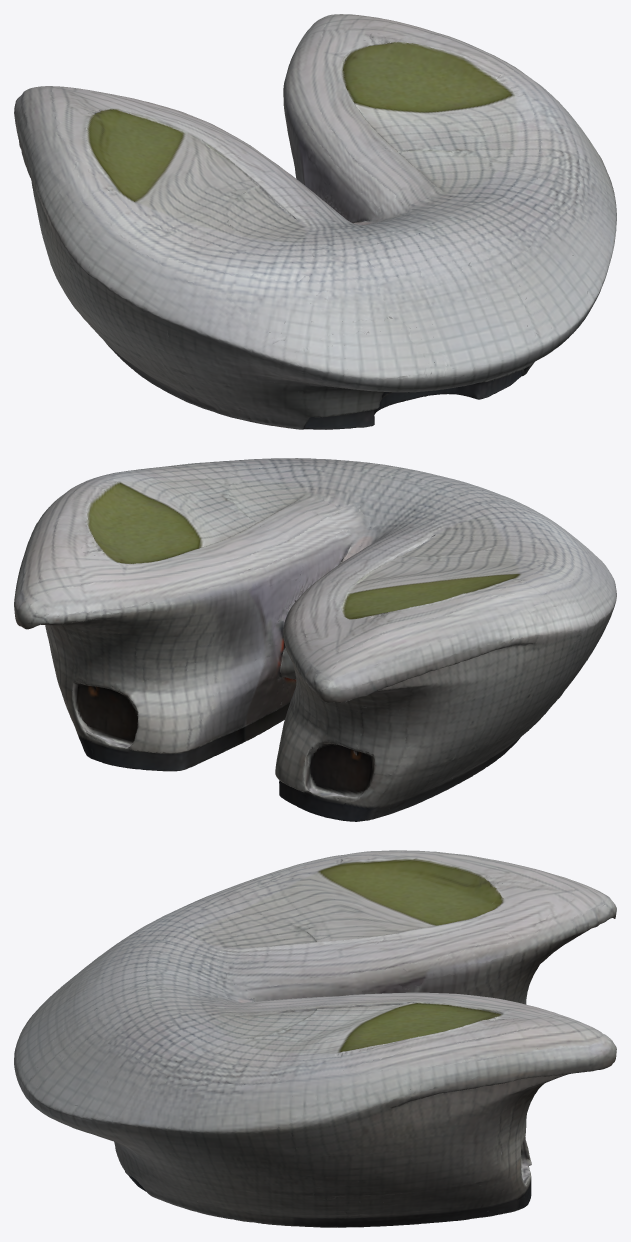
Rendered from DDP_본관.glb.
3 renders of one model, top to bottom at view 1: azimuth 30°, elevation 25°; view 2: azimuth 150°, elevation 25°; view 3: azimuth 270°, elevation 25°, orthographic. The views are drawn at different scales.
Parts seen in each view (by area): view 1: texture_mapping; view 2: texture_mapping; view 3: texture_mapping.
Part boxes in pixels (<box>): texture_mapping: <box>14,14,616,429</box>; texture_mapping: <box>14,458,616,821</box>; texture_mapping: <box>14,850,616,1227</box>.
Bounding box in the file's own units: 0.9498 × 0.3598 × 0.9977.
Materials: 1 (1 with a texture image).
